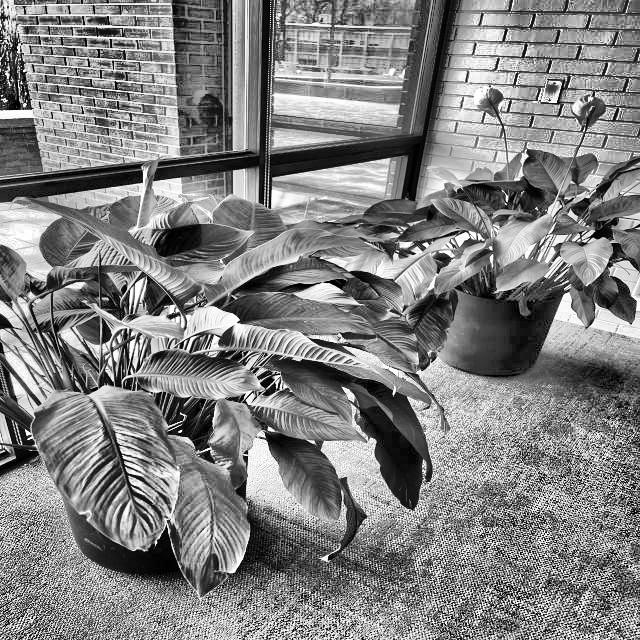plants: (8, 176, 408, 568), (411, 106, 640, 411)
